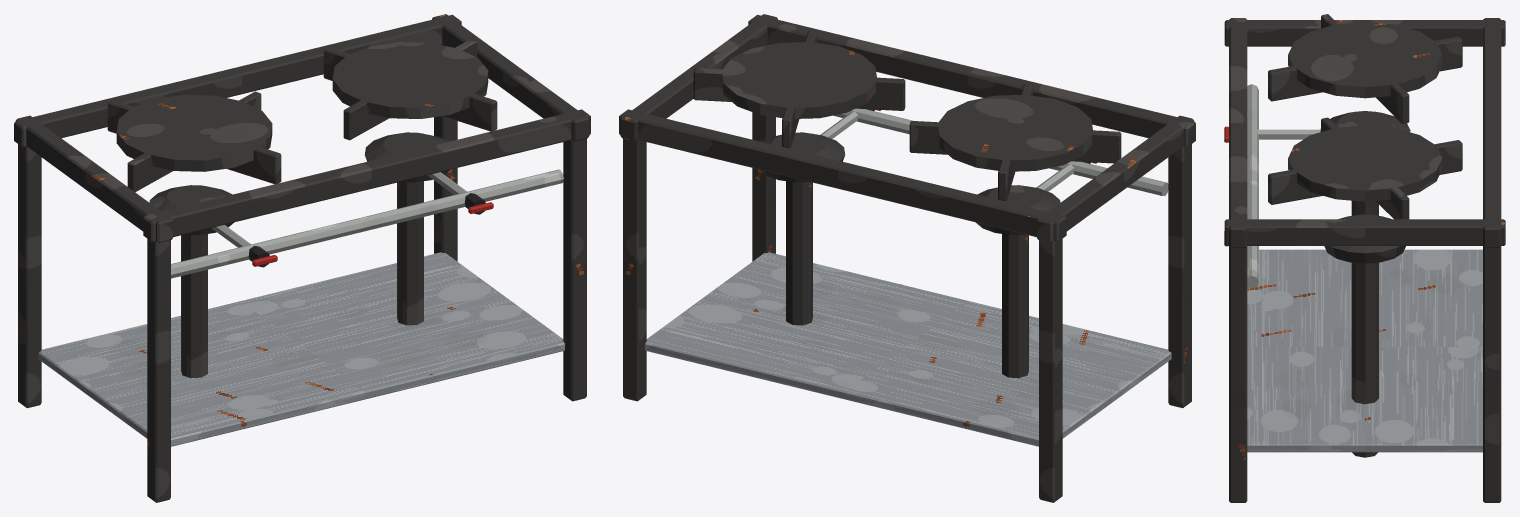
File: stock_stove.glb
The picture shows the model from 3 angles, left to right: view 1: azimuth 30°, elevation 25°; view 2: azimuth 150°, elevation 25°; view 3: azimuth 270°, elevation 25°; orthographic projection.
Visible parts, largest first — view 1: p; view 2: p; view 3: p.
Boxes of the visible parts, x1=… form: p: x1=14, y1=14, x2=590, y2=502; p: x1=619, y1=14, x2=1195, y2=502; p: x1=1224, y1=14, x2=1505, y2=502.
Size of the model in its own units: 1.1 by 0.715 by 0.621.
5 materials, 5 textured.
